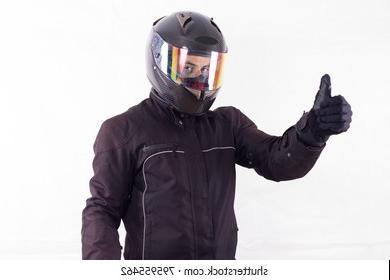Helmet: (148, 11, 228, 114)
